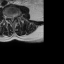CCS_normal: (11, 14, 13, 23)
LFS_severe_stenosis: (15, 14, 17, 20)
LLS_stenosis: (13, 14, 15, 21)
RFS_stenosis: (7, 14, 9, 20)
RLS_stenosis: (9, 14, 11, 20)
